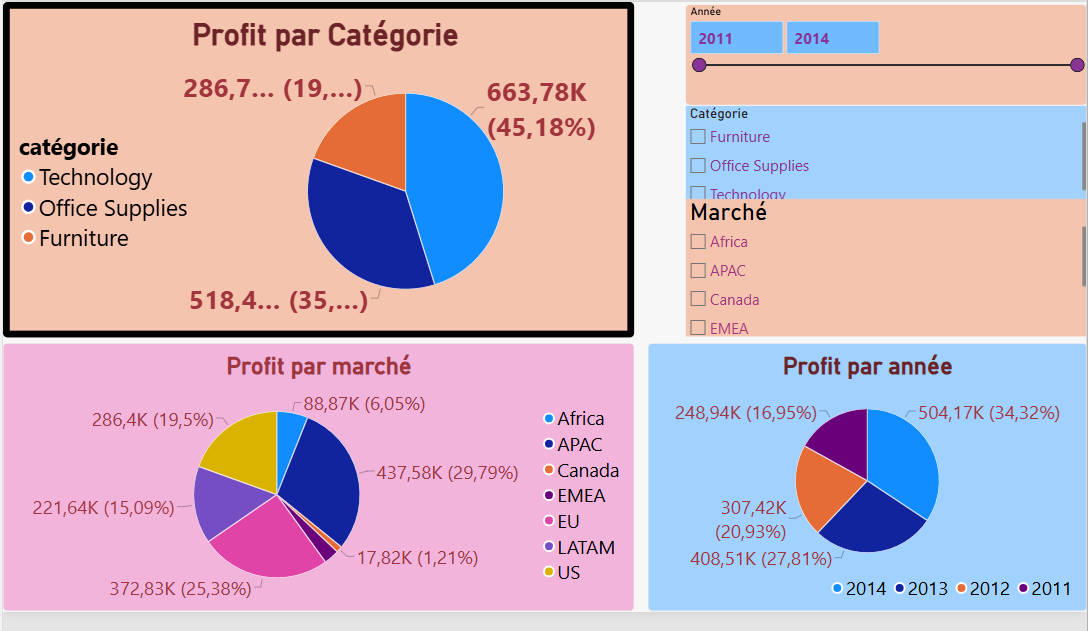

The dashboard page shown, as its layout file describes it:
{"tool":"powerbi","page":{"name":"Page 7","canvas":[1920,1080],"ordinal":2},"visuals":[{"type":"pieChart","title":"Profit par Catégorie","fields":{"Category":["public sales.category"],"Y":["Sum(public sales.profit)"]},"box":[0,0,1118.8,594],"z":0},{"type":"pieChart","title":" Profit par marché","fields":{"Series":["public sales.market"],"Y":["Sum(public sales.profit)"]},"box":[0,604.7,1118.8,474.1],"z":1},{"type":"pieChart","title":"Profit par année","fields":{"Category":["public sales.year"],"Y":["Sum(public sales.profit)"]},"box":[1142.7,604.7,777.8,474.1],"z":2},{"type":"slicer","fields":{"Values":["public sales.market"]},"box":[1209.4,347.8,711.2,245.1],"z":3},{"type":"slicer","fields":{"Values":["public sales.year"]},"box":[1208.8,5.3,711.2,178.5],"z":4},{"type":"slicer","fields":{"Values":["public sales.category"]},"box":[1209.3,183.8,711.2,165.2],"z":5}]}

Visuals, with their boxes in screenshot pixels (x1, y1, x2, y2), scaled from the page's 1920x1080 canvas onto the 1092x631 screenshot:
"Profit par Catégorie" pieChart: <box>0,0,636,347</box>
" Profit par marché" pieChart: <box>0,353,636,630</box>
"Profit par année" pieChart: <box>650,353,1091,630</box>
slicer - public sales.market: <box>688,203,1091,346</box>
slicer - public sales.year: <box>688,3,1091,107</box>
slicer - public sales.category: <box>688,107,1091,204</box>
